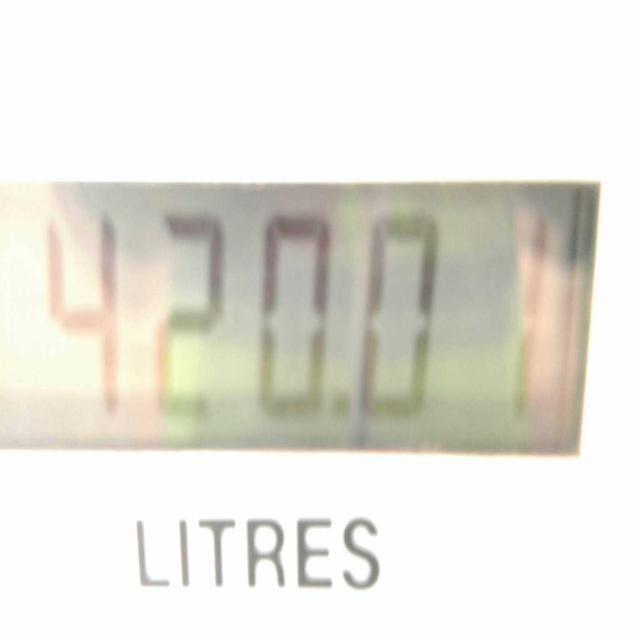.: (320, 379, 360, 441)
0: (352, 207, 446, 440), (251, 210, 331, 428), (492, 200, 562, 434)
2: (147, 201, 235, 435)
4: (33, 194, 134, 443)
